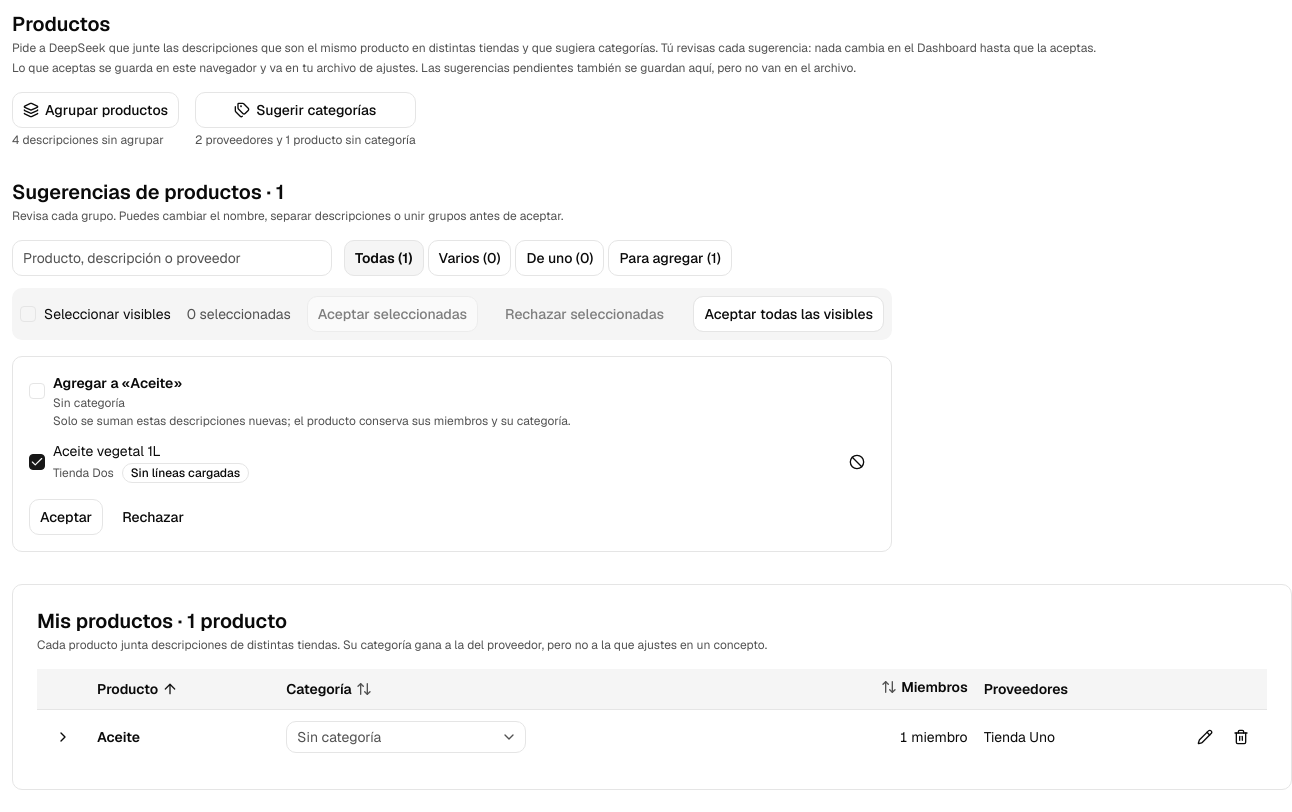
Scenario: filters and search (D-20, E4) › finds an «Agregar a» card by the name of its product, not by the name DeepSeek gave it
In the search field named "Buscar sugerencia": (172, 258) [12,240,332,276], type "aceite"
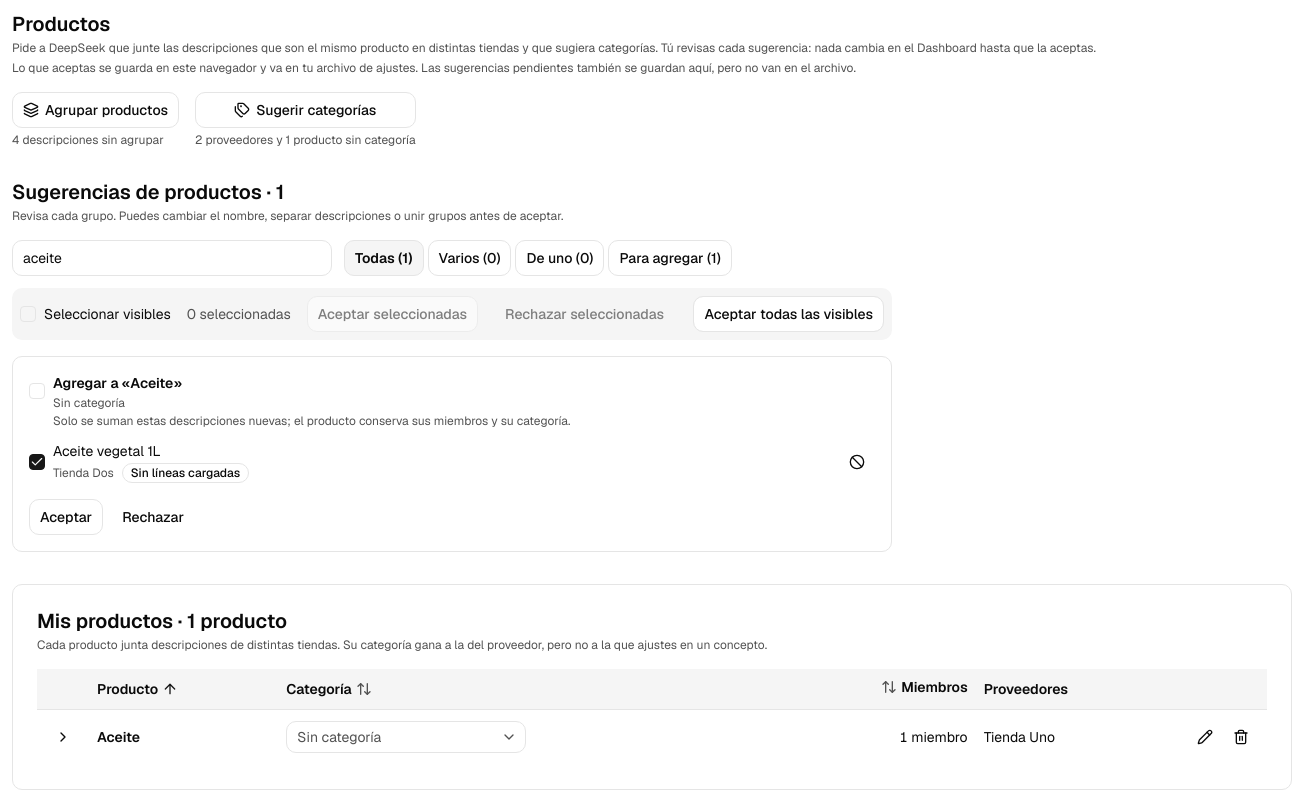
Expected: the heading "Agregar a «Aceite»" is shown, [53,374,182,392]
Replace the text in the search field named "Buscar sugerencia" with "zzz": (172, 258) [12,240,332,276]
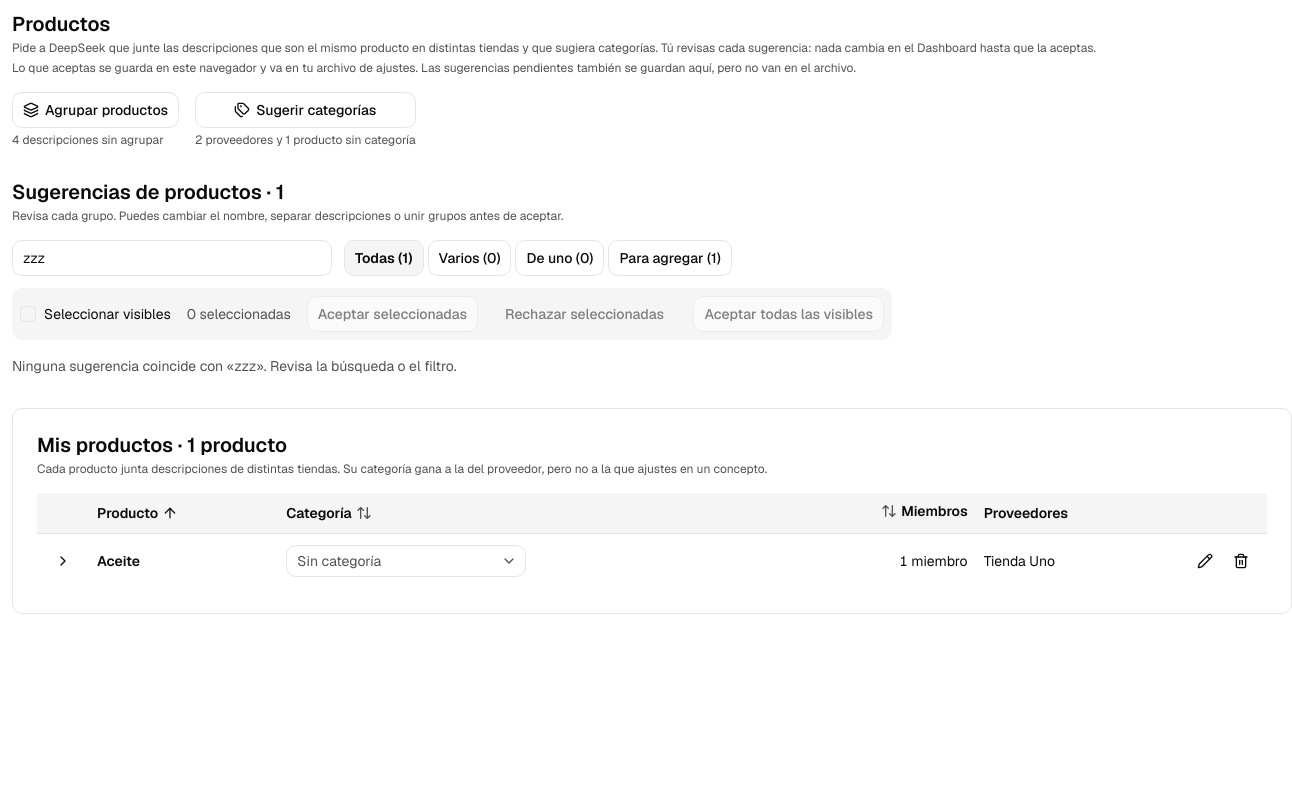
Result: the heading "Agregar a «Aceite»" is gone
